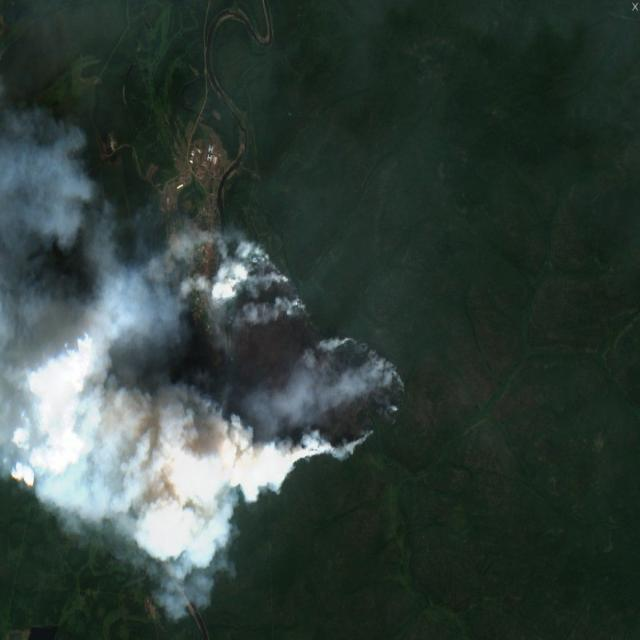fire: (121, 235, 406, 501)
